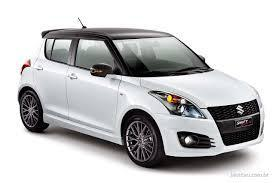Hatchback: (18, 21, 265, 166)
